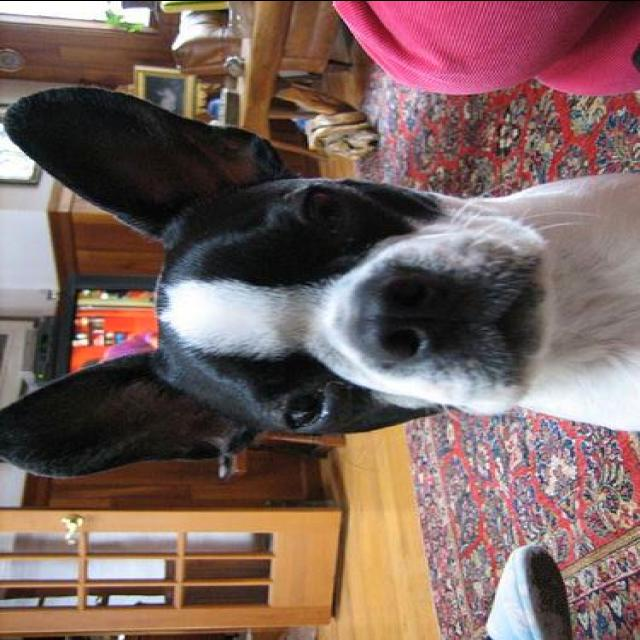toy_terrier: (0, 83, 638, 482)
